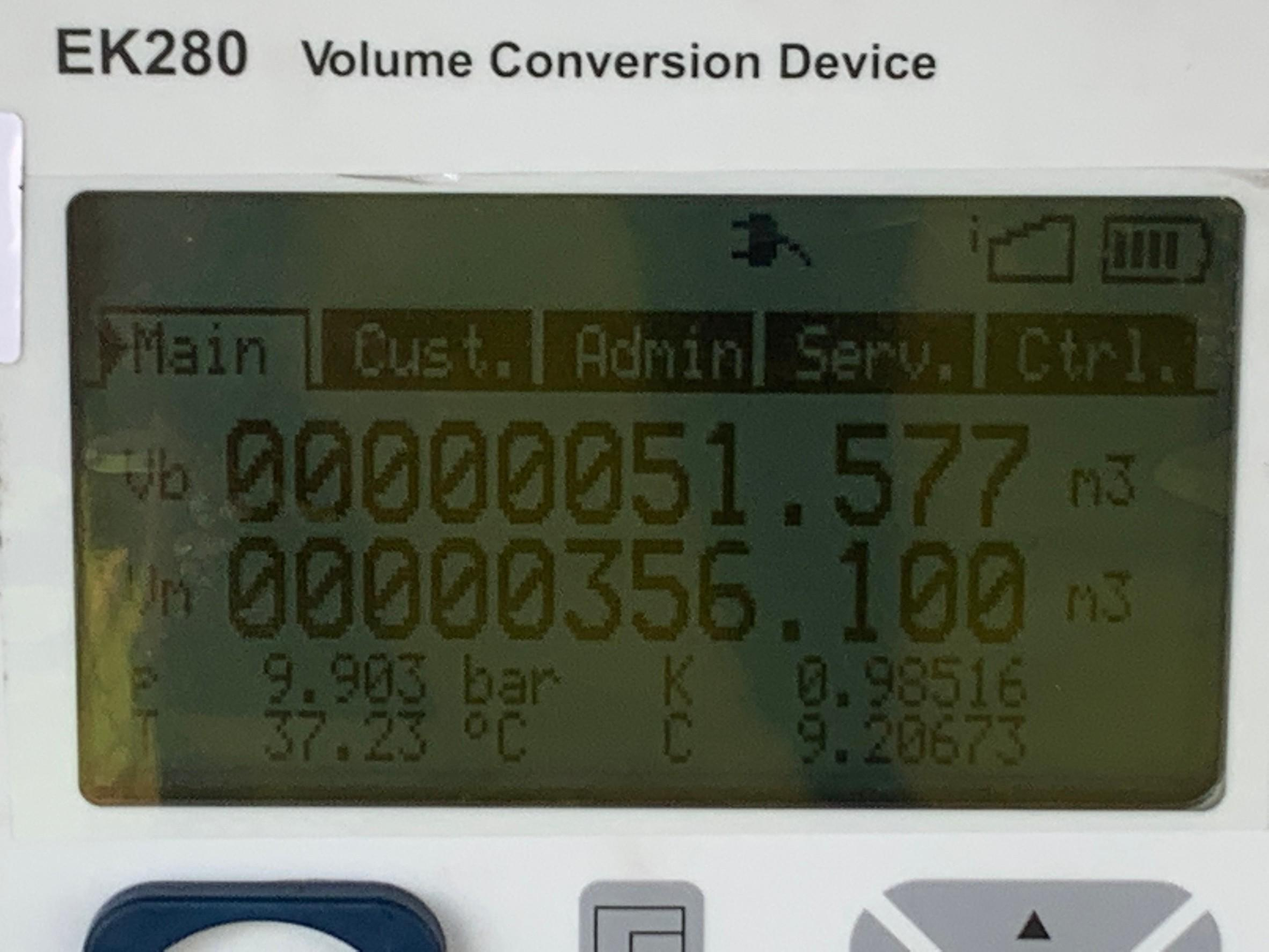digital_screen: (71, 198, 1243, 805)
